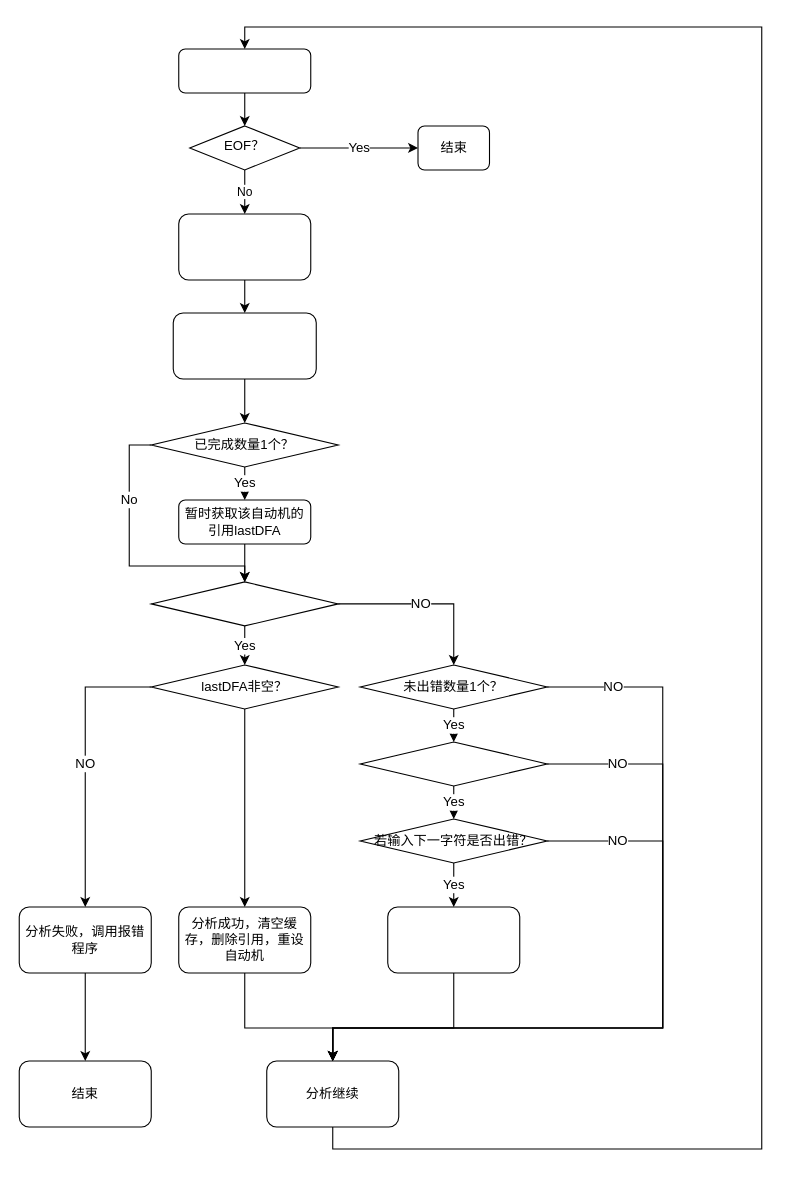
Some shapes in this 790 by 1177 pixel diagram are drawn without their labels. Here are the shapes that lost their labels. From the top down, the box of each, then its label:
(178, 48, 311, 93): 读取字符
(178, 213, 311, 280): 所有自动机输入该字符，并存入缓冲区
(172, 312, 316, 379): 分别获取当前未出错和已完成的自动机数量
(150, 581, 338, 626): 未出错数量0个？
(359, 741, 547, 786): 该自动机是否结束？
(387, 906, 520, 973): 分析成功，清空缓存，重设自动机
